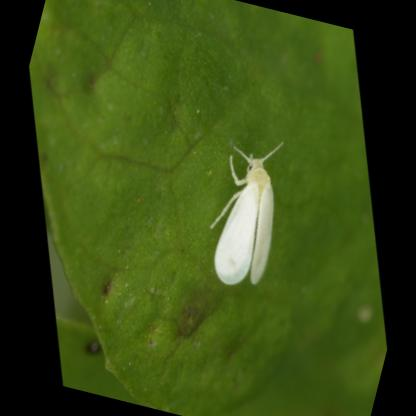whitefly: (215, 157, 275, 286)
